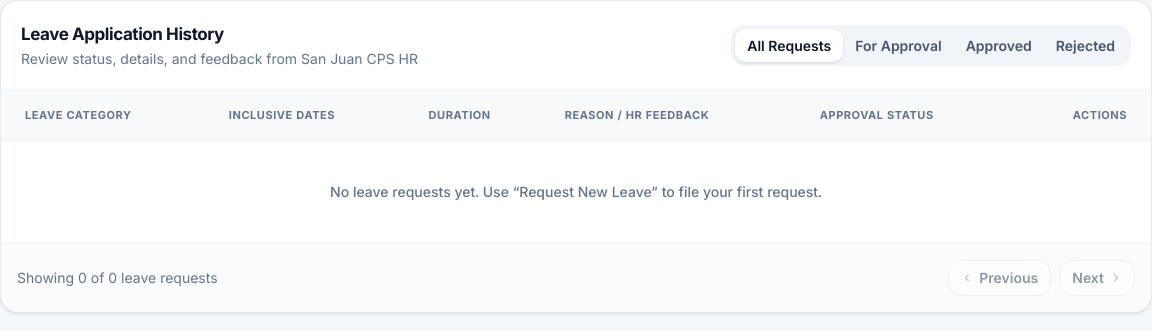
Test: EmployeeLeaveList › explains an empty filtered tab
The image size is (1152, 331).
Click the tab "For Approval": (898, 45) [843, 29, 954, 62]
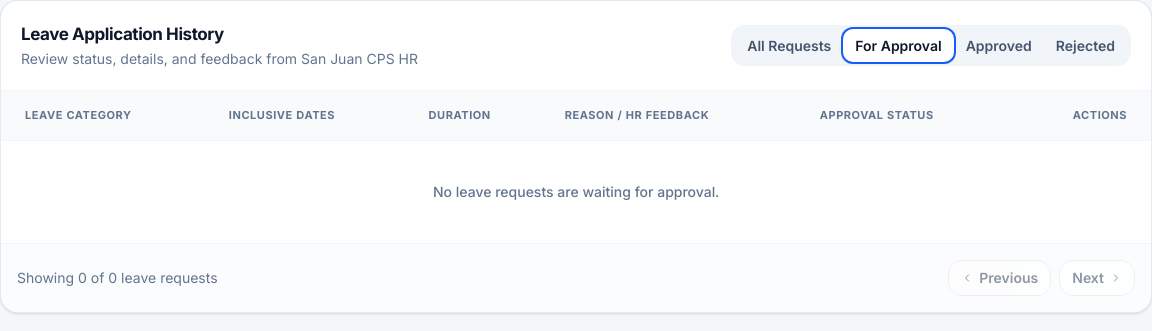
Check: the text "No leave requests are waiting for approval." is shown, box [1, 141, 1151, 243]
Click the tab "Approved": (999, 45) [954, 29, 1044, 62]
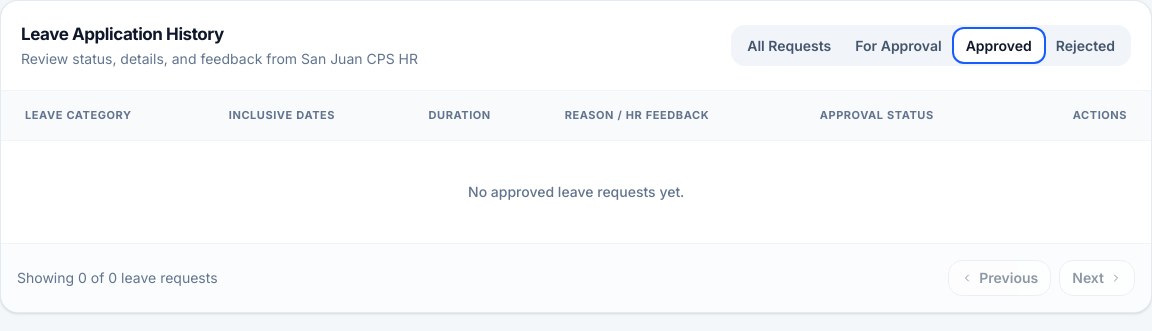
Check: the text "No approved leave requests yet." is shown, box [1, 141, 1151, 243]
Click the tab "Rejected": (1085, 45) [1044, 29, 1127, 62]
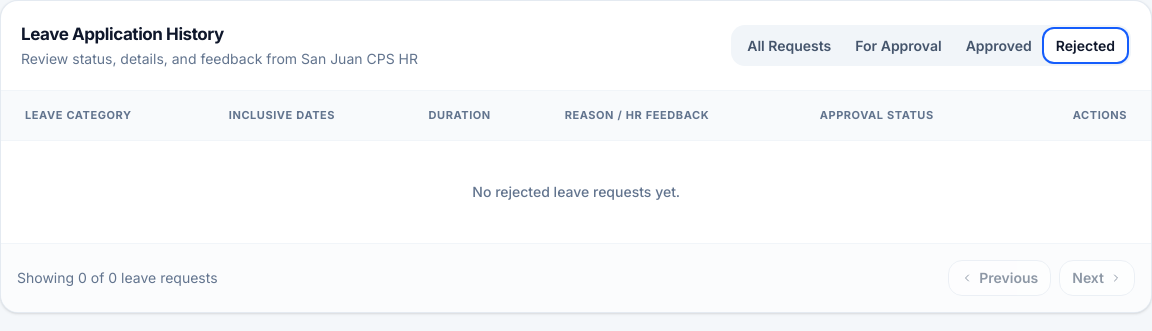
Check: the text "No rejected leave requests yet." is shown, box [1, 141, 1151, 243]
